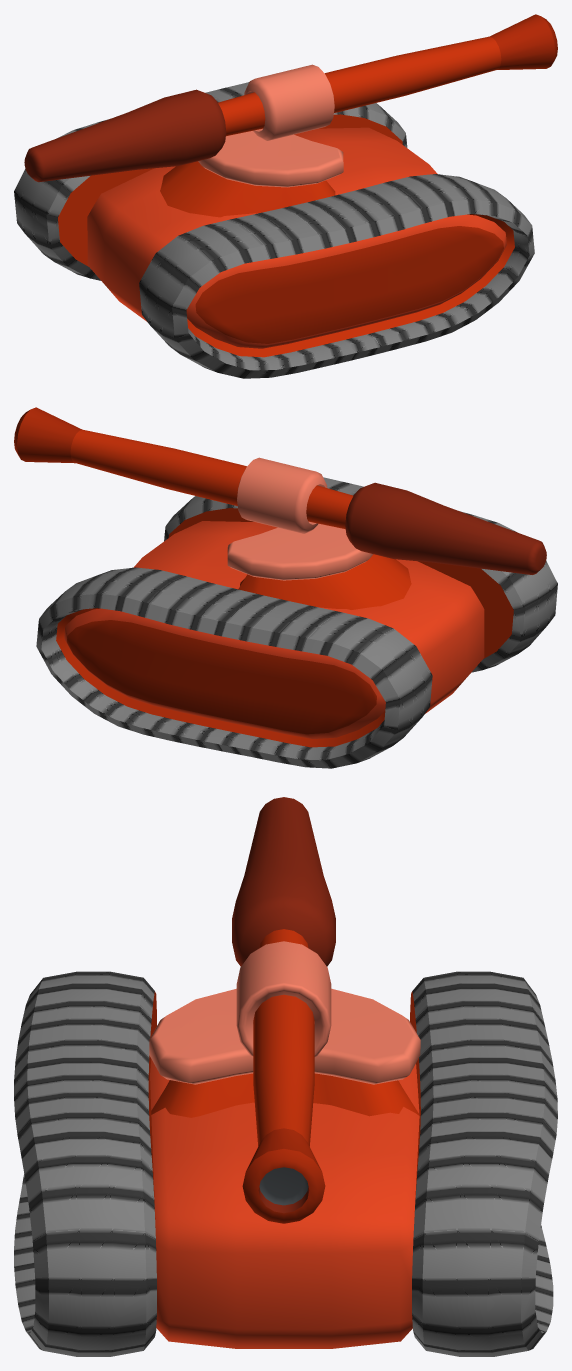
File: EnemyArac.fbx
3 views of the same model, one above another, from view 1: azimuth 30°, elevation 25°; view 2: azimuth 150°, elevation 25°; view 3: azimuth 270°, elevation 25° (orthographic). The views are drawn at different scales.
Visible parts, largest first — view 1: EnemyArac, EnemySilah; view 2: EnemyArac, EnemySilah; view 3: EnemyArac, EnemySilah.
Part boxes in pixels (bbox=[...]): EnemyArac: bbox=[14, 82, 534, 378]; EnemySilah: bbox=[24, 14, 557, 182]; EnemyArac: bbox=[36, 477, 557, 768]; EnemySilah: bbox=[14, 407, 546, 574]; EnemyArac: bbox=[14, 971, 557, 1356]; EnemySilah: bbox=[232, 797, 335, 1223].
Bounding box in the file's own units: 4.46 × 1.85 × 2.75.
